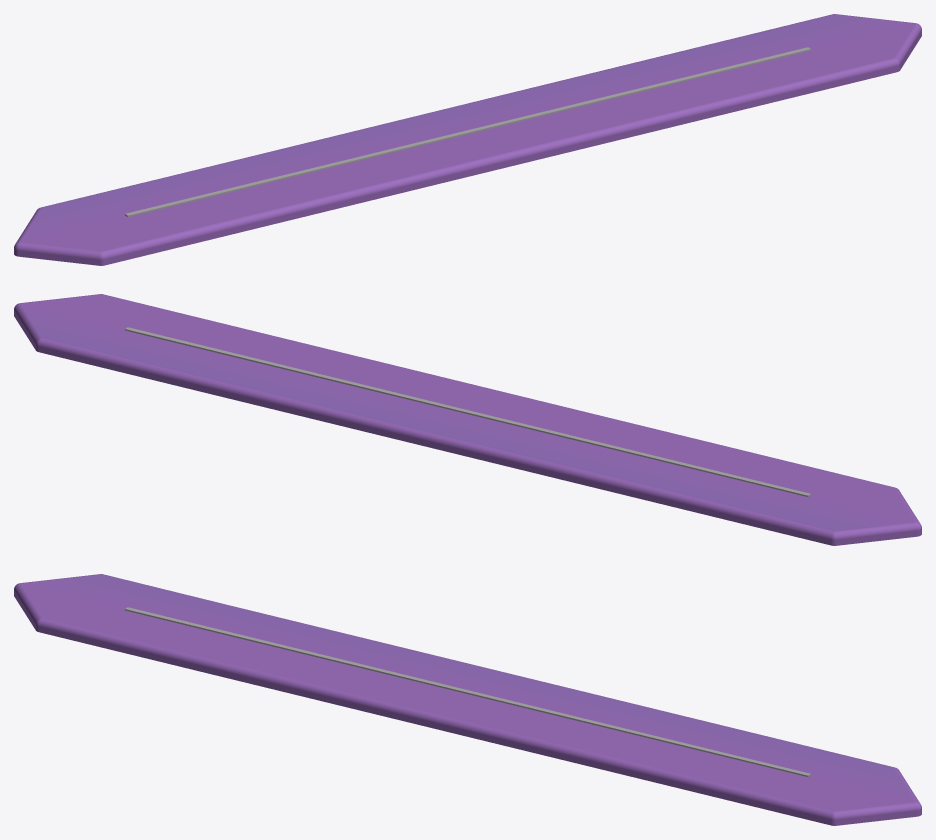
File: Tapnote.glb
3 renders of one model, top to bottom at view 1: azimuth 30°, elevation 25°; view 2: azimuth 150°, elevation 25°; view 3: azimuth 330°, elevation 25°, orthographic.
Visible parts, largest first — view 1: NoteBase, Line; view 2: NoteBase, Line; view 3: NoteBase, Line.
Boxes of the visible parts, <box> form: NoteBase: <box>14,14,921,265</box>; Line: <box>125,47,810,216</box>; NoteBase: <box>14,294,921,545</box>; Line: <box>125,327,810,496</box>; NoteBase: <box>14,574,921,825</box>; Line: <box>125,607,810,776</box>.
Bounding box in the file's own units: 3.98 × 0.0562 × 0.5.
Materials: 2 (1 with a texture image).
